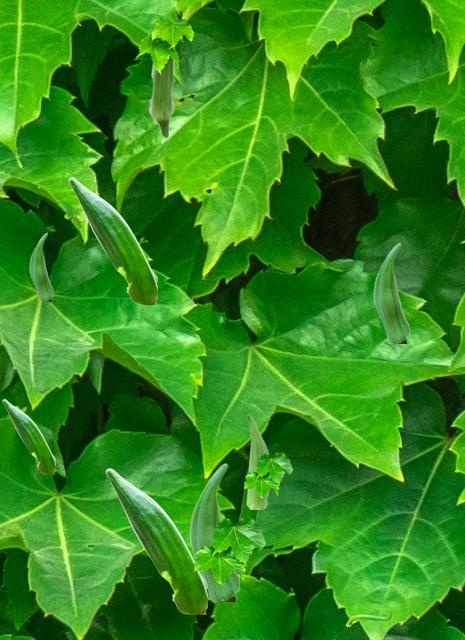okra: (105, 468, 206, 613), (68, 177, 156, 303), (189, 462, 238, 600), (2, 399, 54, 473), (373, 242, 408, 342), (246, 414, 269, 508), (148, 58, 174, 138), (29, 232, 52, 300), (238, 470, 259, 521), (346, 612, 390, 625)
